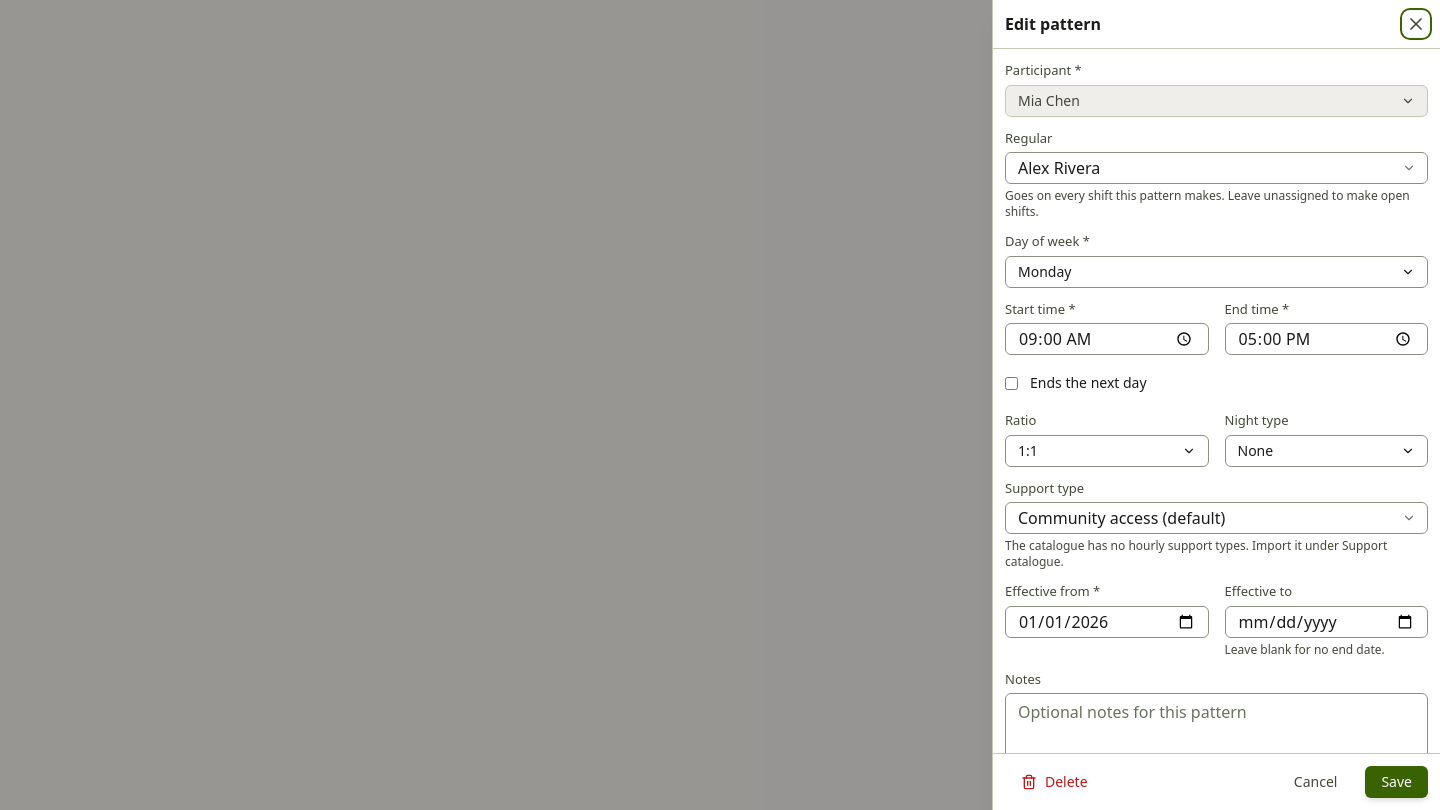
Scenario: PatternSlideOver — the server's refusal reaches the user › edit: shows the server's own message, not the generic line, keeps the edited values, and sent the full body
In the text box labelled "Notes": (1216, 736) [1005,693,1428,779], type "Fortnightly review"
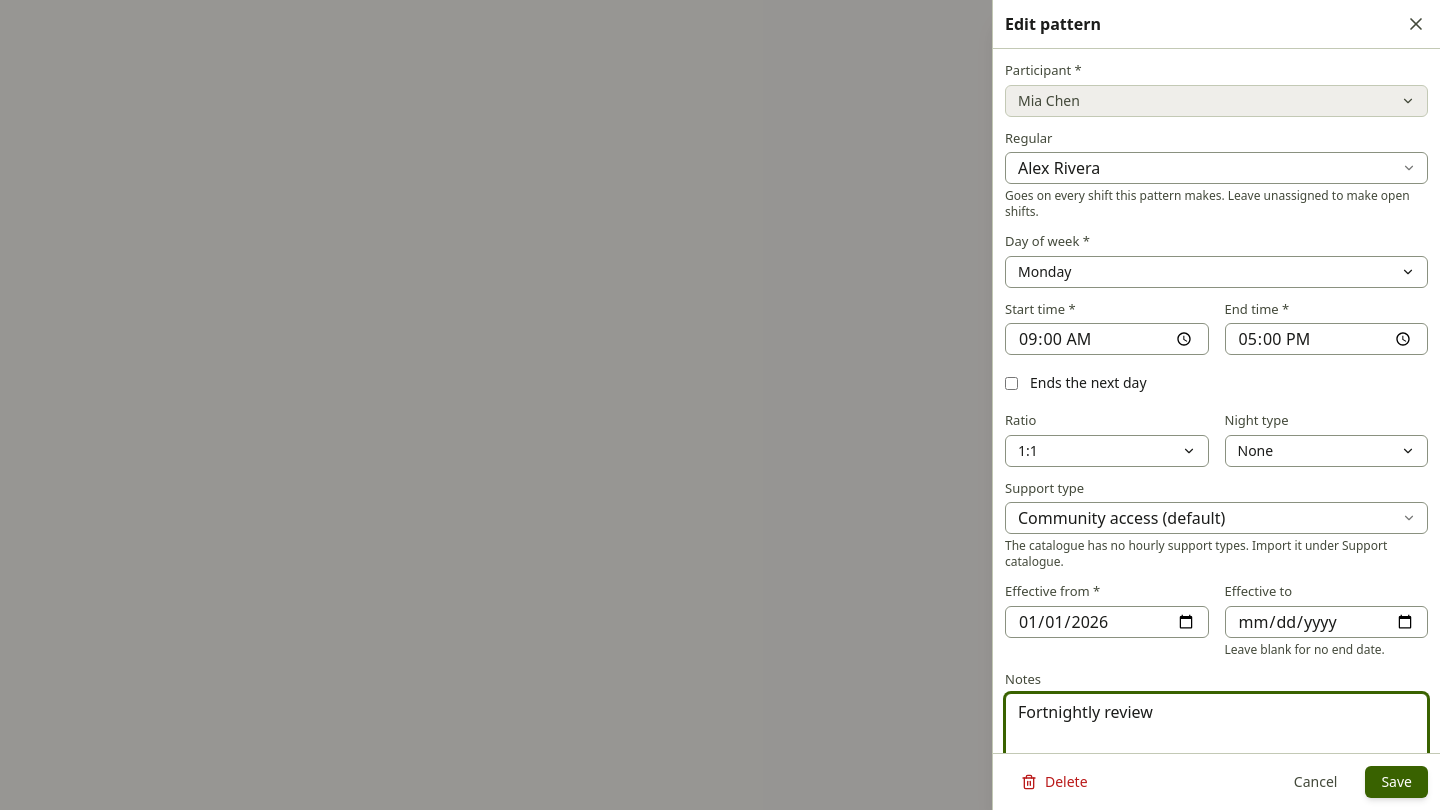
Click the checkbox labelled "Ends the next day": click(1012, 383) [1005,376,1018,390]
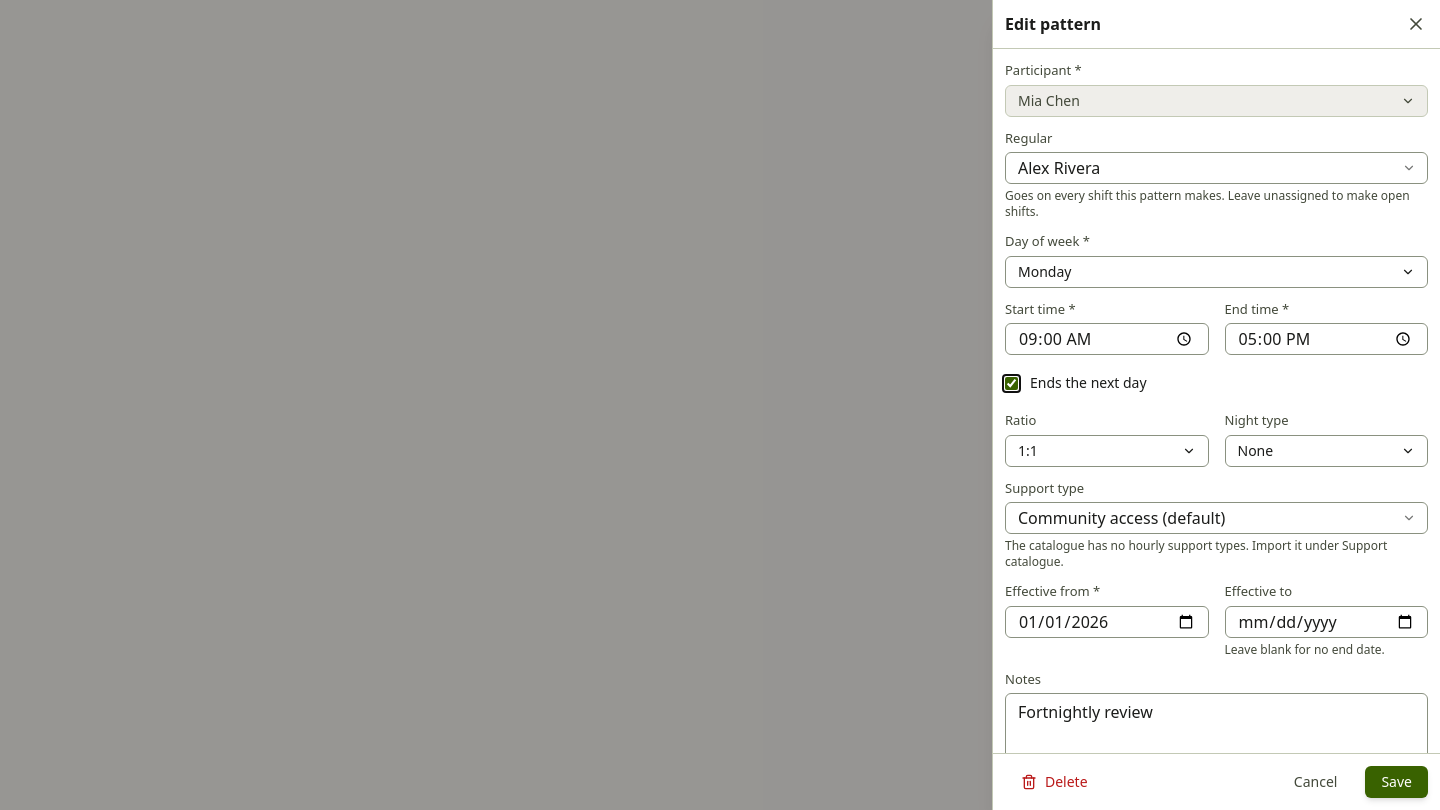
Click the button "Save": click(1397, 782) [1365,766,1428,798]
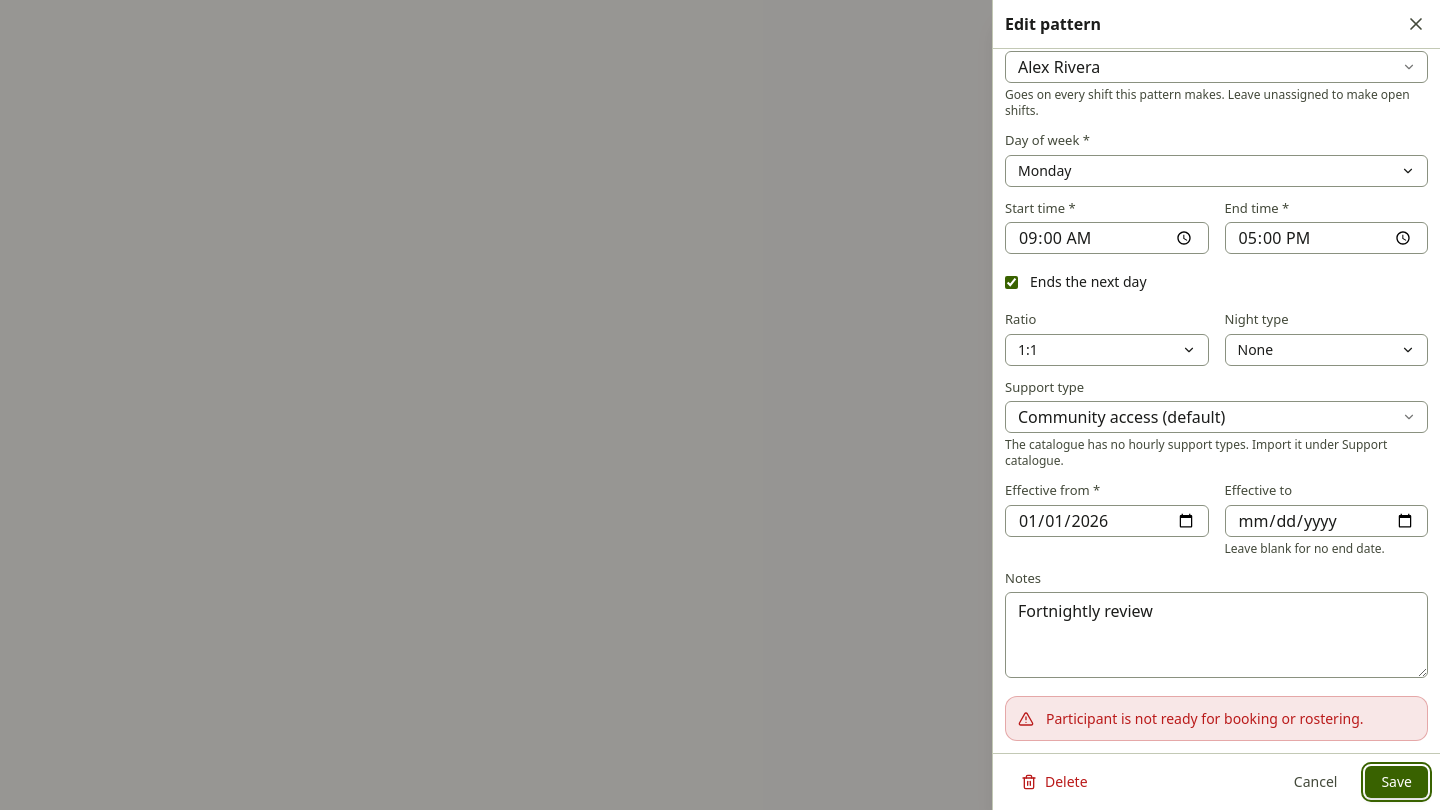
Expected: the checkbox labelled "Ends the next day" is checked, [1005,276,1018,288]
Expected: the text "Participant is not ready for booking or rostering." is shown, [1005,696,1428,741]
